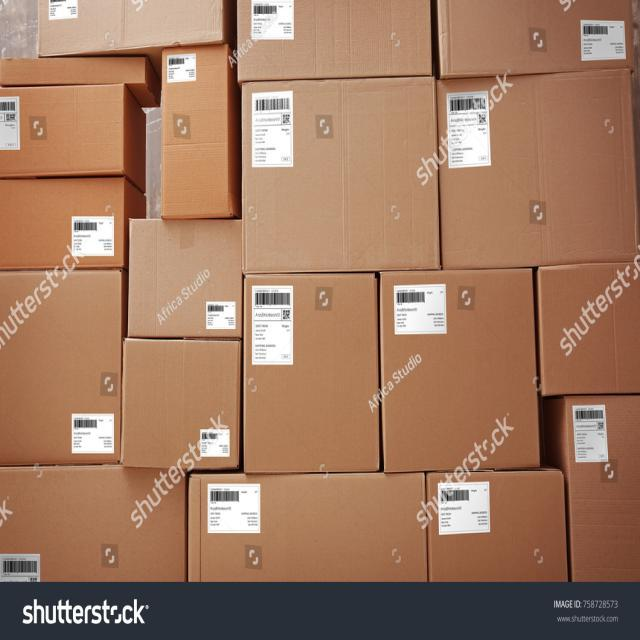BoxFace: (434, 63, 640, 271), (240, 74, 441, 278), (377, 267, 543, 475), (186, 468, 428, 582), (244, 271, 379, 474), (0, 264, 125, 468), (0, 465, 184, 580), (120, 337, 243, 472), (439, 0, 635, 80), (427, 471, 568, 580), (234, 0, 434, 76), (126, 216, 244, 340), (563, 395, 640, 580), (539, 266, 640, 396), (160, 46, 232, 220), (0, 176, 130, 272), (0, 81, 128, 178), (35, 0, 225, 57), (0, 53, 151, 85)
